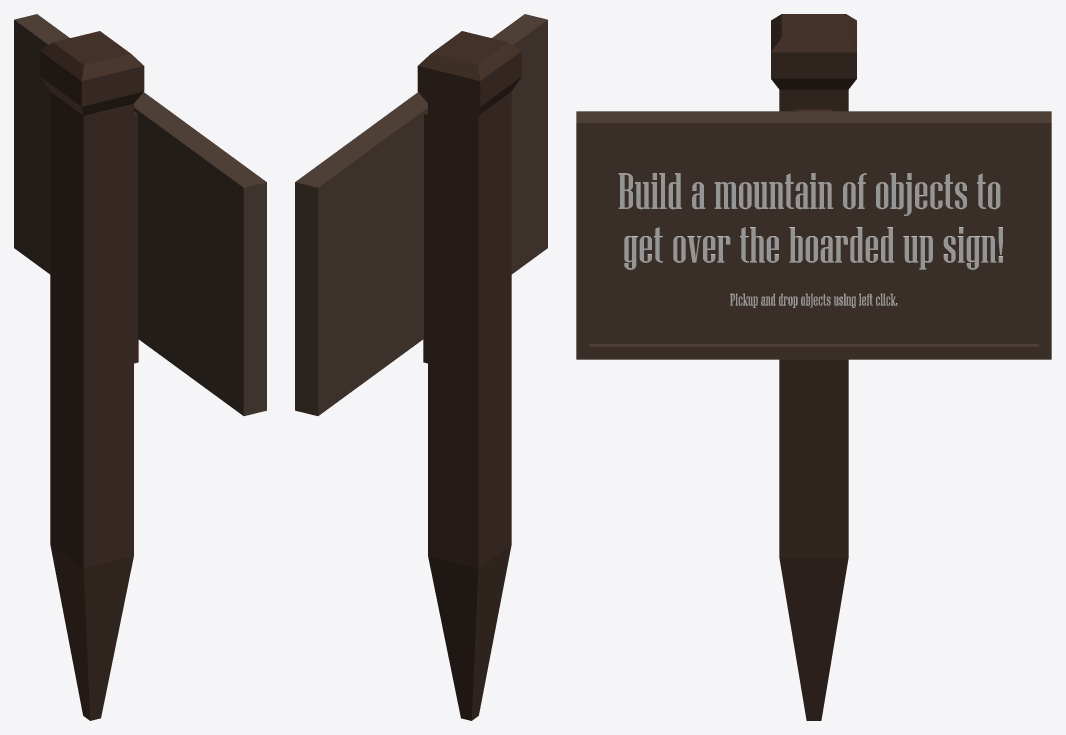
Rendered from Parkour sign.fbx.
3 renders of one model, left to right at view 1: azimuth 30°, elevation 25°; view 2: azimuth 150°, elevation 25°; view 3: azimuth 270°, elevation 25°, orthographic. The views are drawn at different scales.
Visible parts, largest first — view 1: Sign post.002, Sign.002; view 2: Sign post.002, Sign.002; view 3: Sign.002, Sign post.002, Text.003, Text.002.
Boxes of the visible parts, x1,y1,x2,y2 form: Sign post.002: (40, 31, 144, 720); Sign.002: (14, 14, 266, 415); Sign post.002: (417, 31, 521, 720); Sign.002: (295, 14, 547, 415); Sign.002: (576, 111, 1051, 359); Sign post.002: (771, 14, 856, 720); Text.003: (618, 173, 1002, 269); Text.002: (730, 293, 897, 307).
Size of the model in its own units: 89.17 by 624 by 389.
